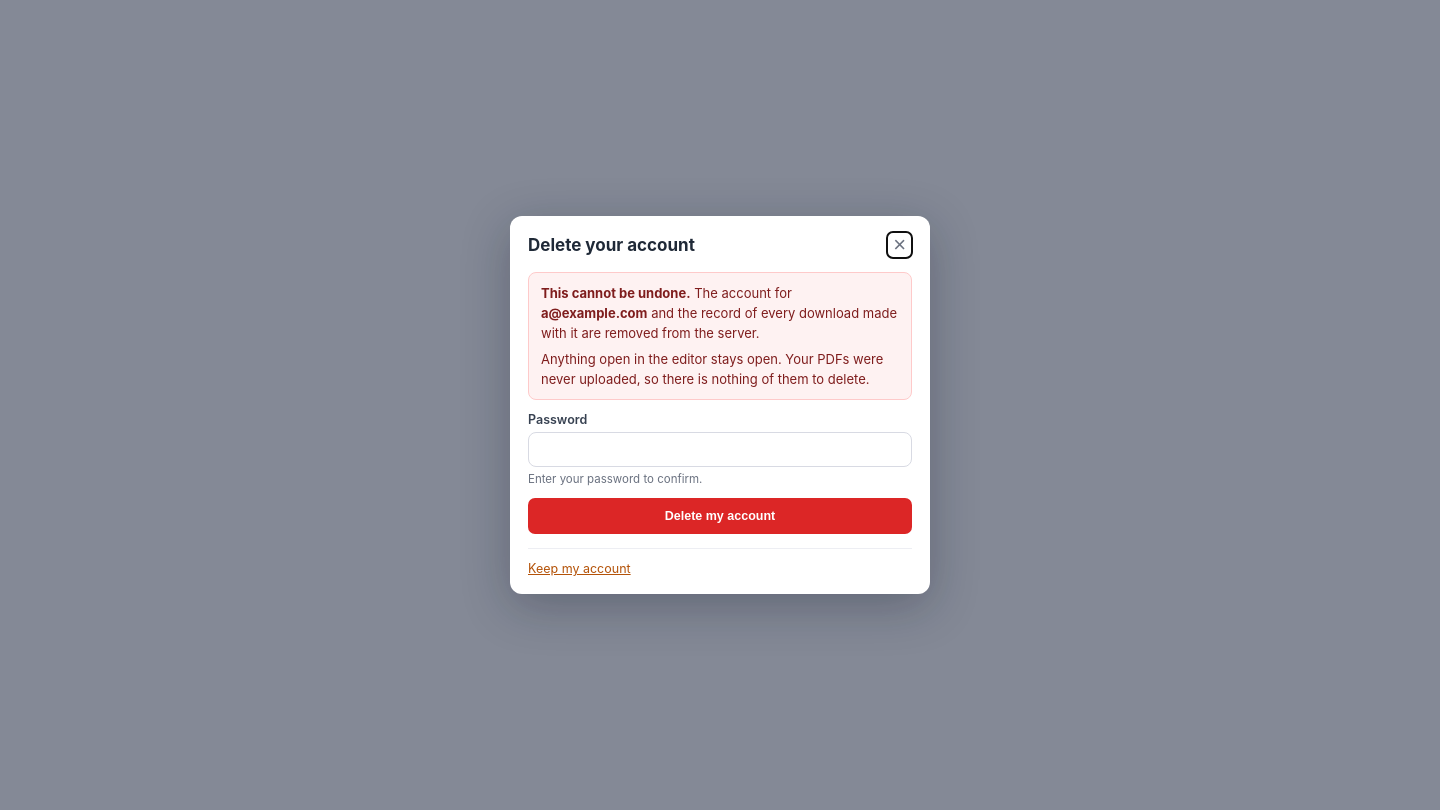
it: deleting an account › shows the server message and keeps the account when the password is wrong
Type "not the password" into the password field labelled "Password Enter your password to confirm." at (720, 450), box left=528, top=432, right=912, bottom=467
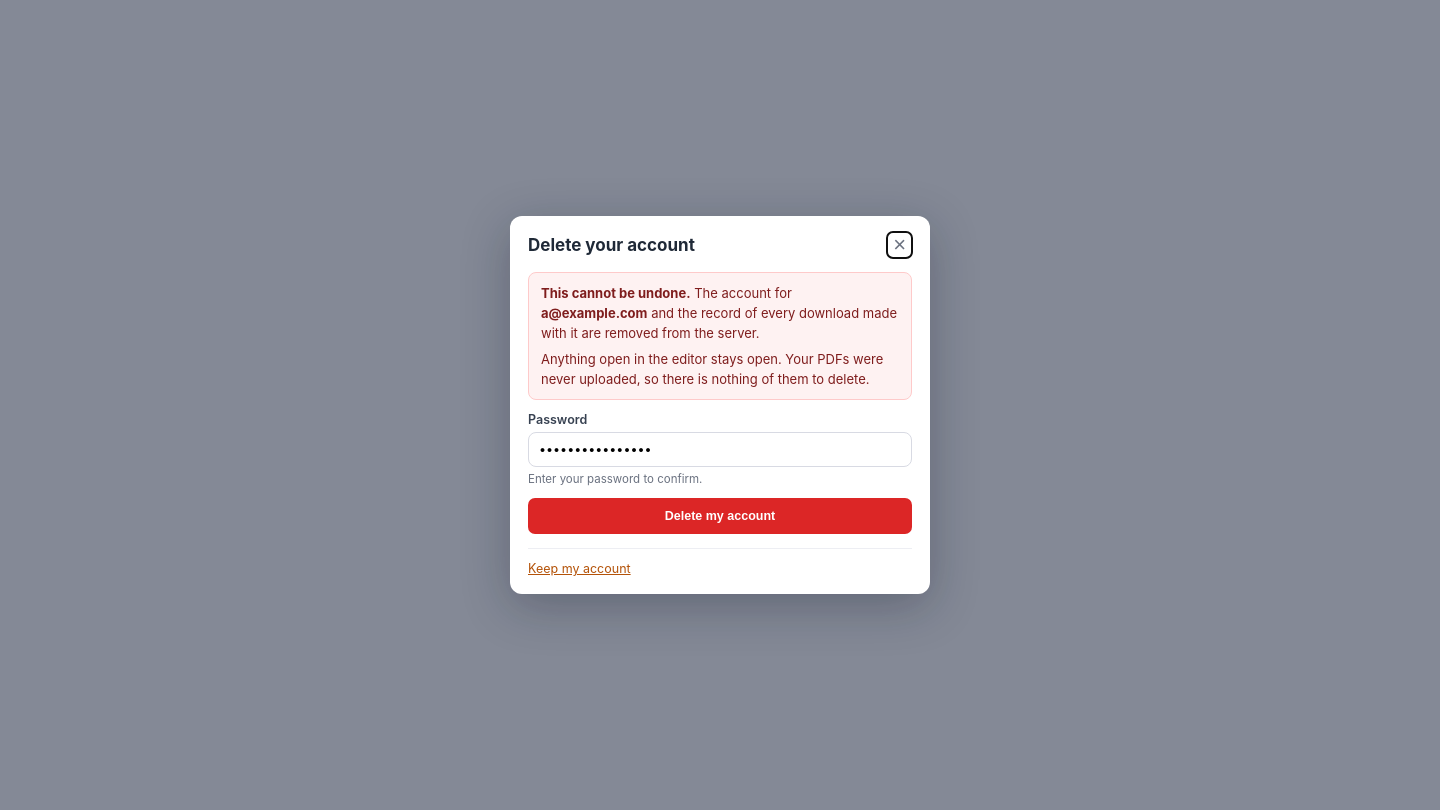
Click the button "Delete my account" at (720, 516), box left=528, top=498, right=912, bottom=534
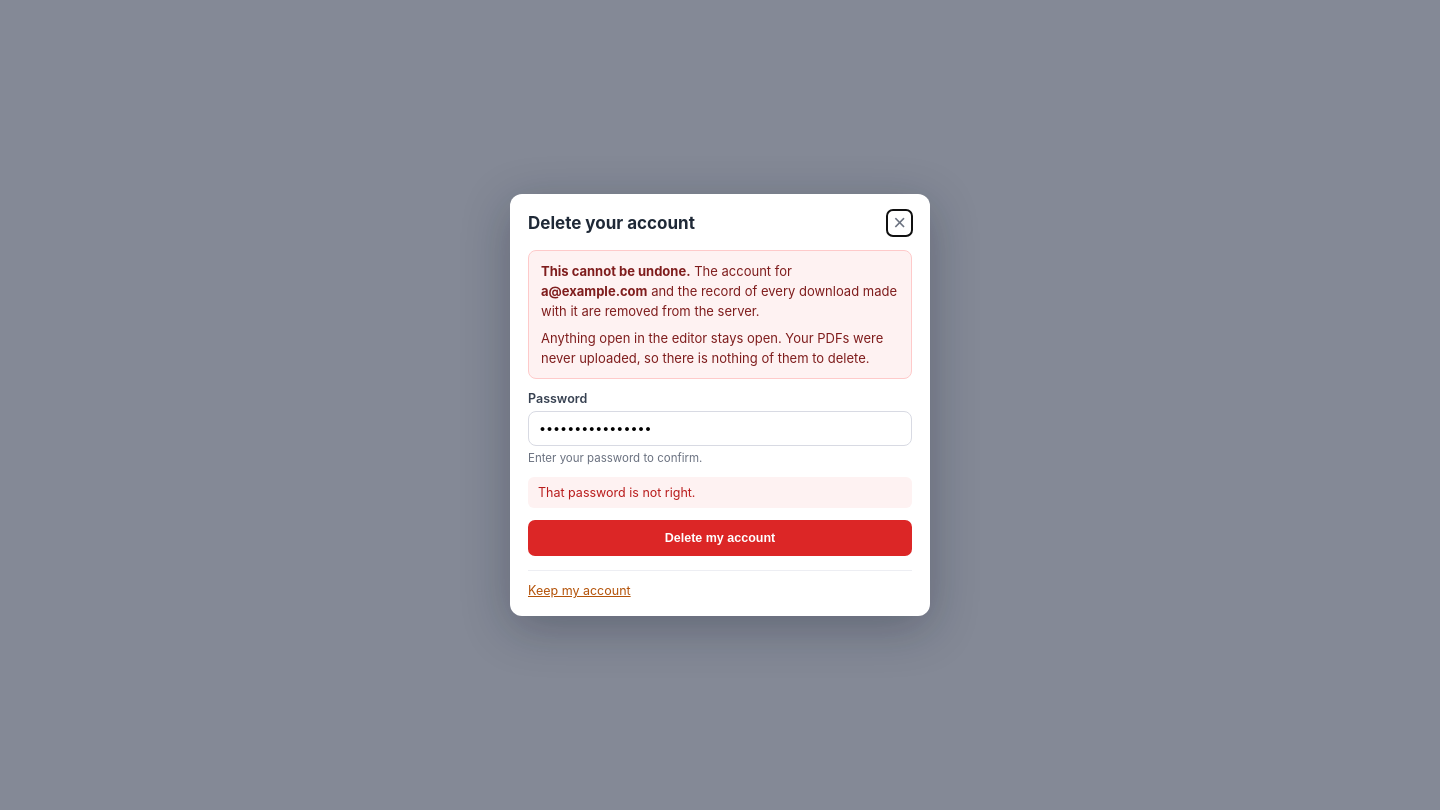
Expected: the text "a@example.com" is shown, left=541, top=283, right=648, bottom=299
Now the text "That password is not right." is shown, box left=528, top=477, right=912, bottom=508
